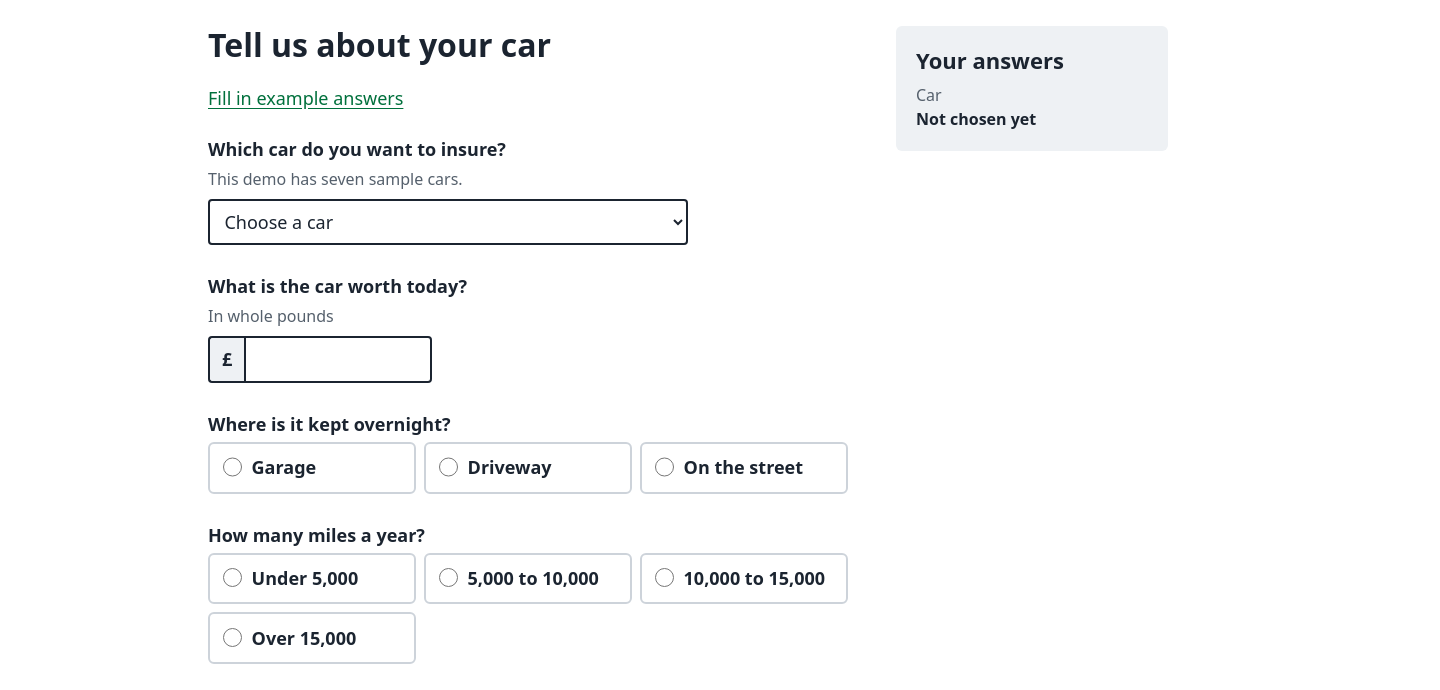
Test: when the server refuses an answer the browser let through (400) › goes to the first step that has a refused answer, and shows each message on its field
Step 1. Click the button "Fill in example answers" → {"x": 306, "y": 98}, box [208,81,403,116]
(page scrolled)
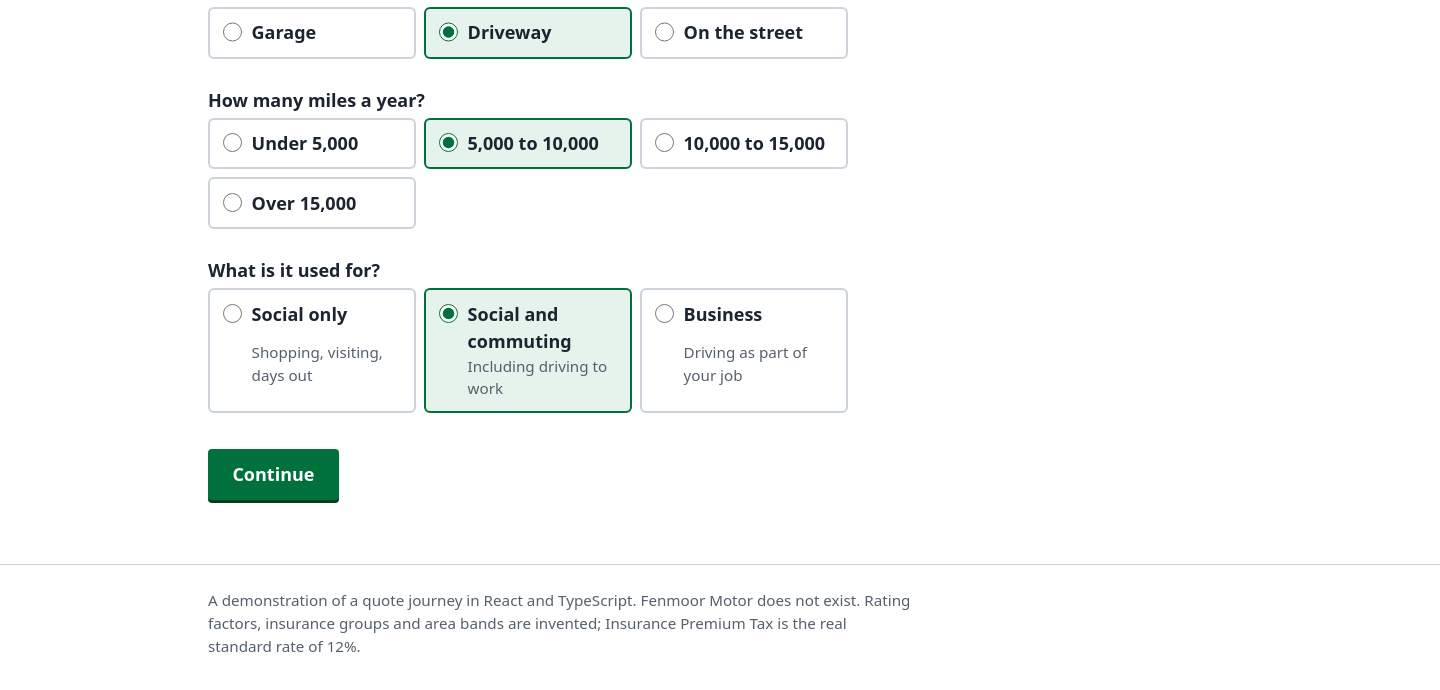
Step 2. Click the button "Continue" → {"x": 273, "y": 474}, box [208,448,339,500]
(page scrolled)
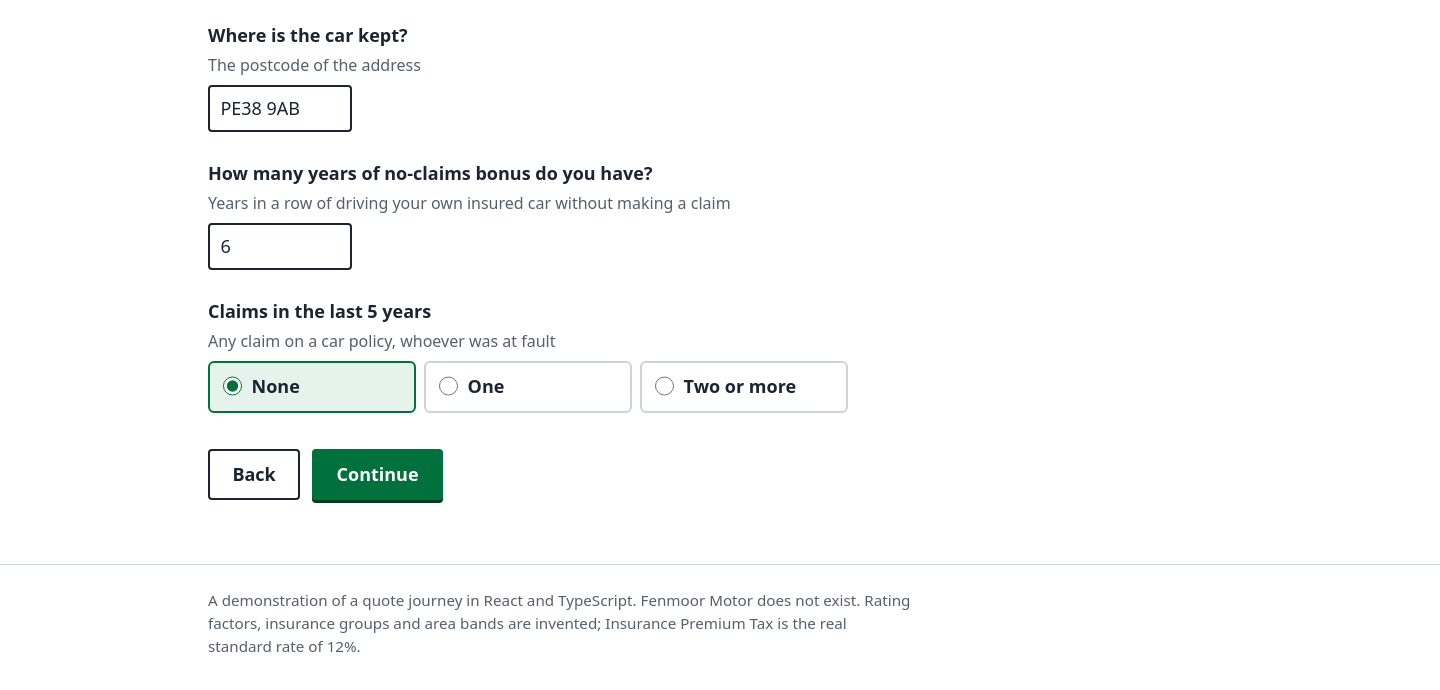
Step 3. Click the button "Continue" → {"x": 378, "y": 474}, box [312,449,443,500]
(page scrolled)
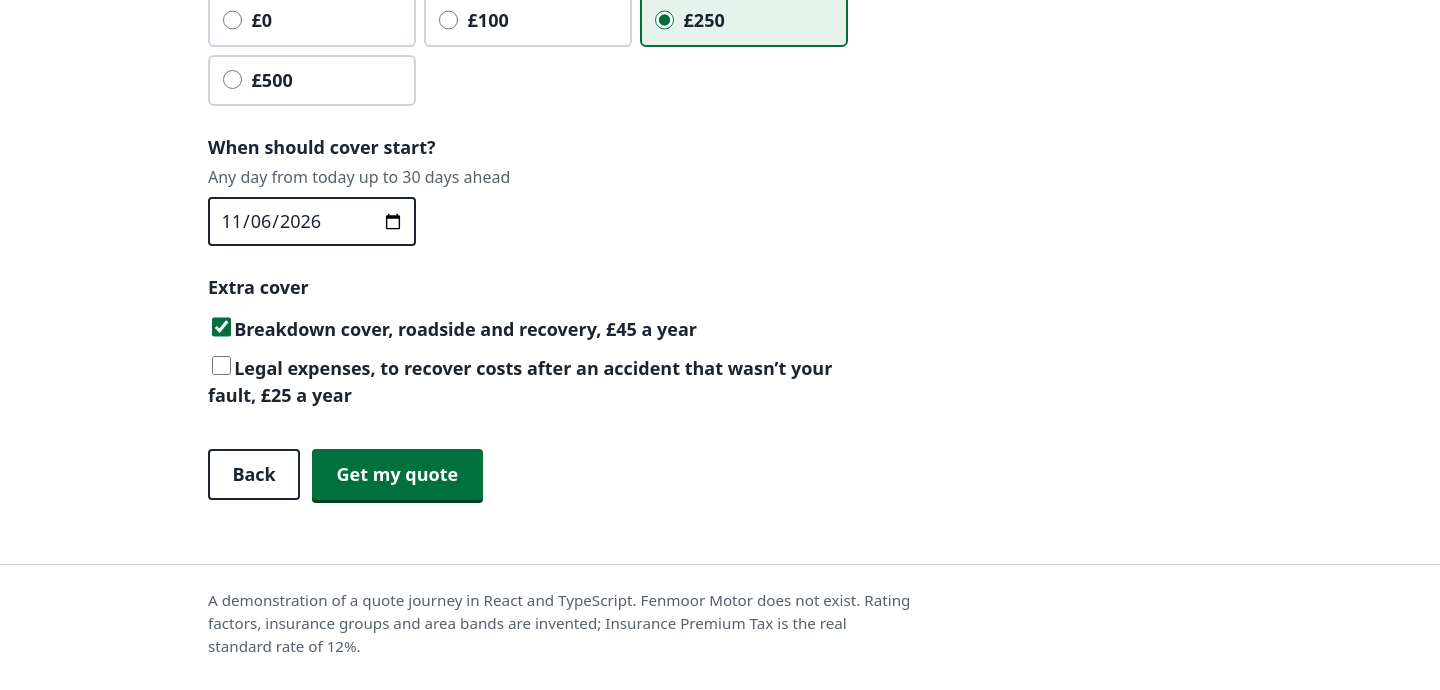
Step 4. Click the button "Get my quote" → {"x": 397, "y": 475}, box [312,449,483,500]
(page scrolled)
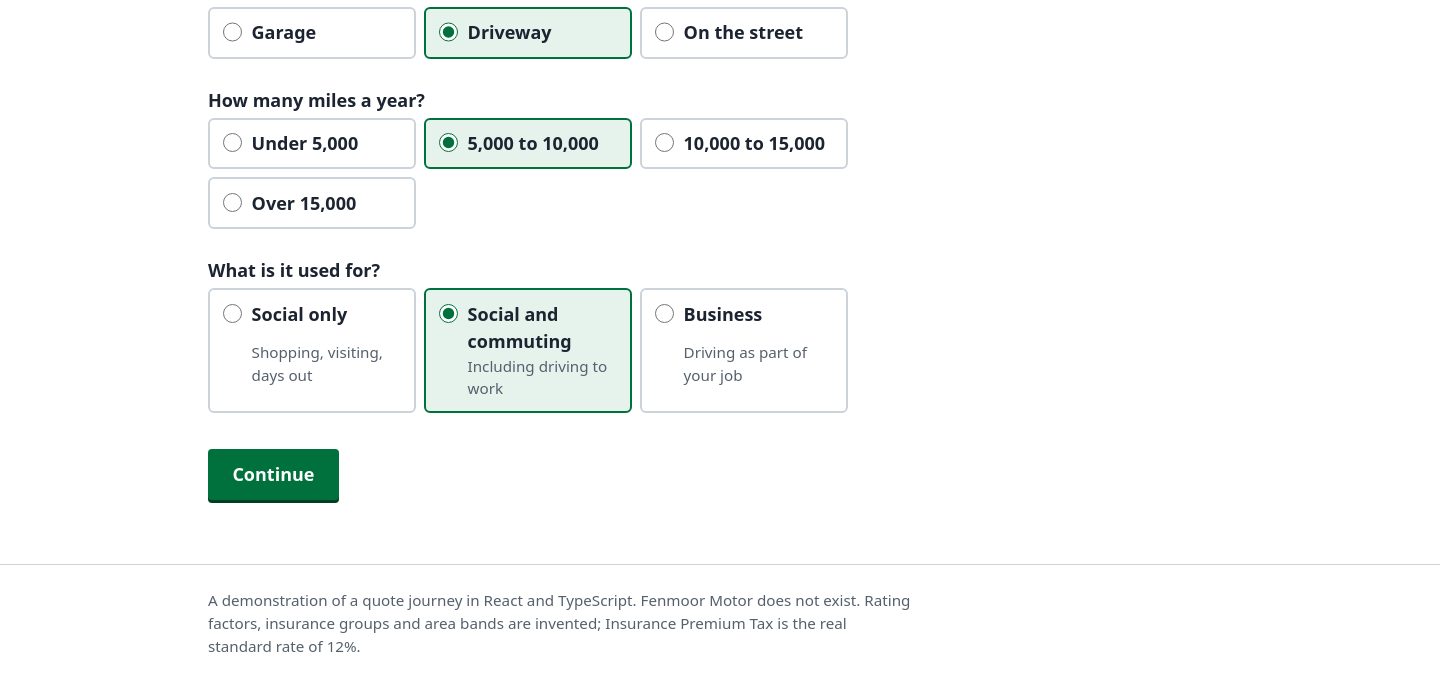
Step 5. Click the button "Continue" → {"x": 273, "y": 474}, box [208,448,339,500]
(page scrolled)
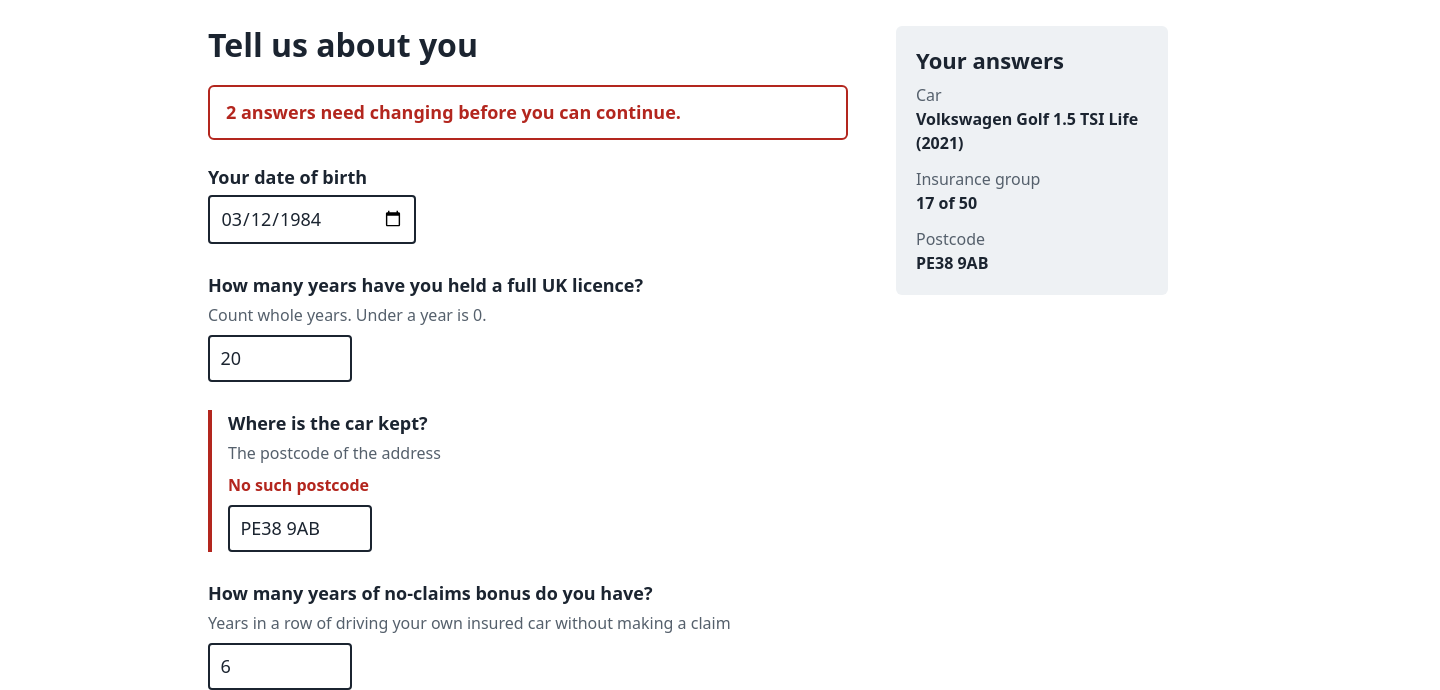
Now the text "No such postcode" is shown, box [228,474,369,496]
